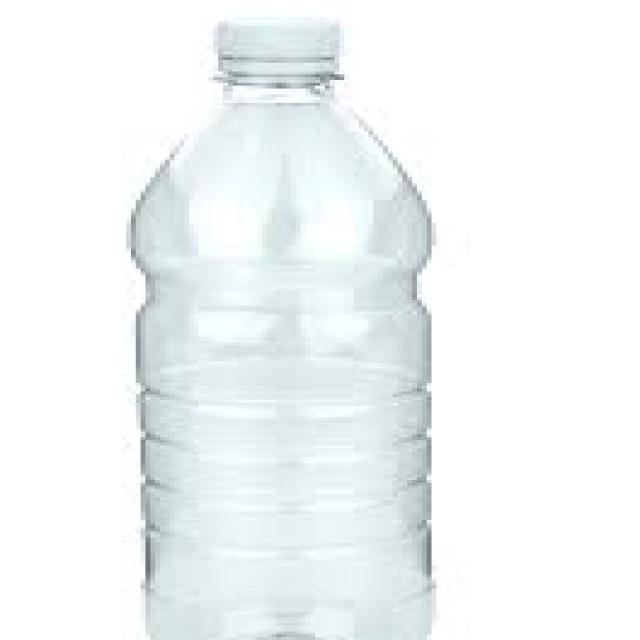organic: (110, 19, 447, 632)
